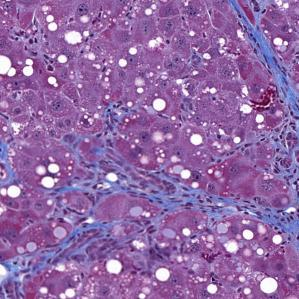fibrosis: (61, 132, 221, 220), (238, 13, 299, 192)
